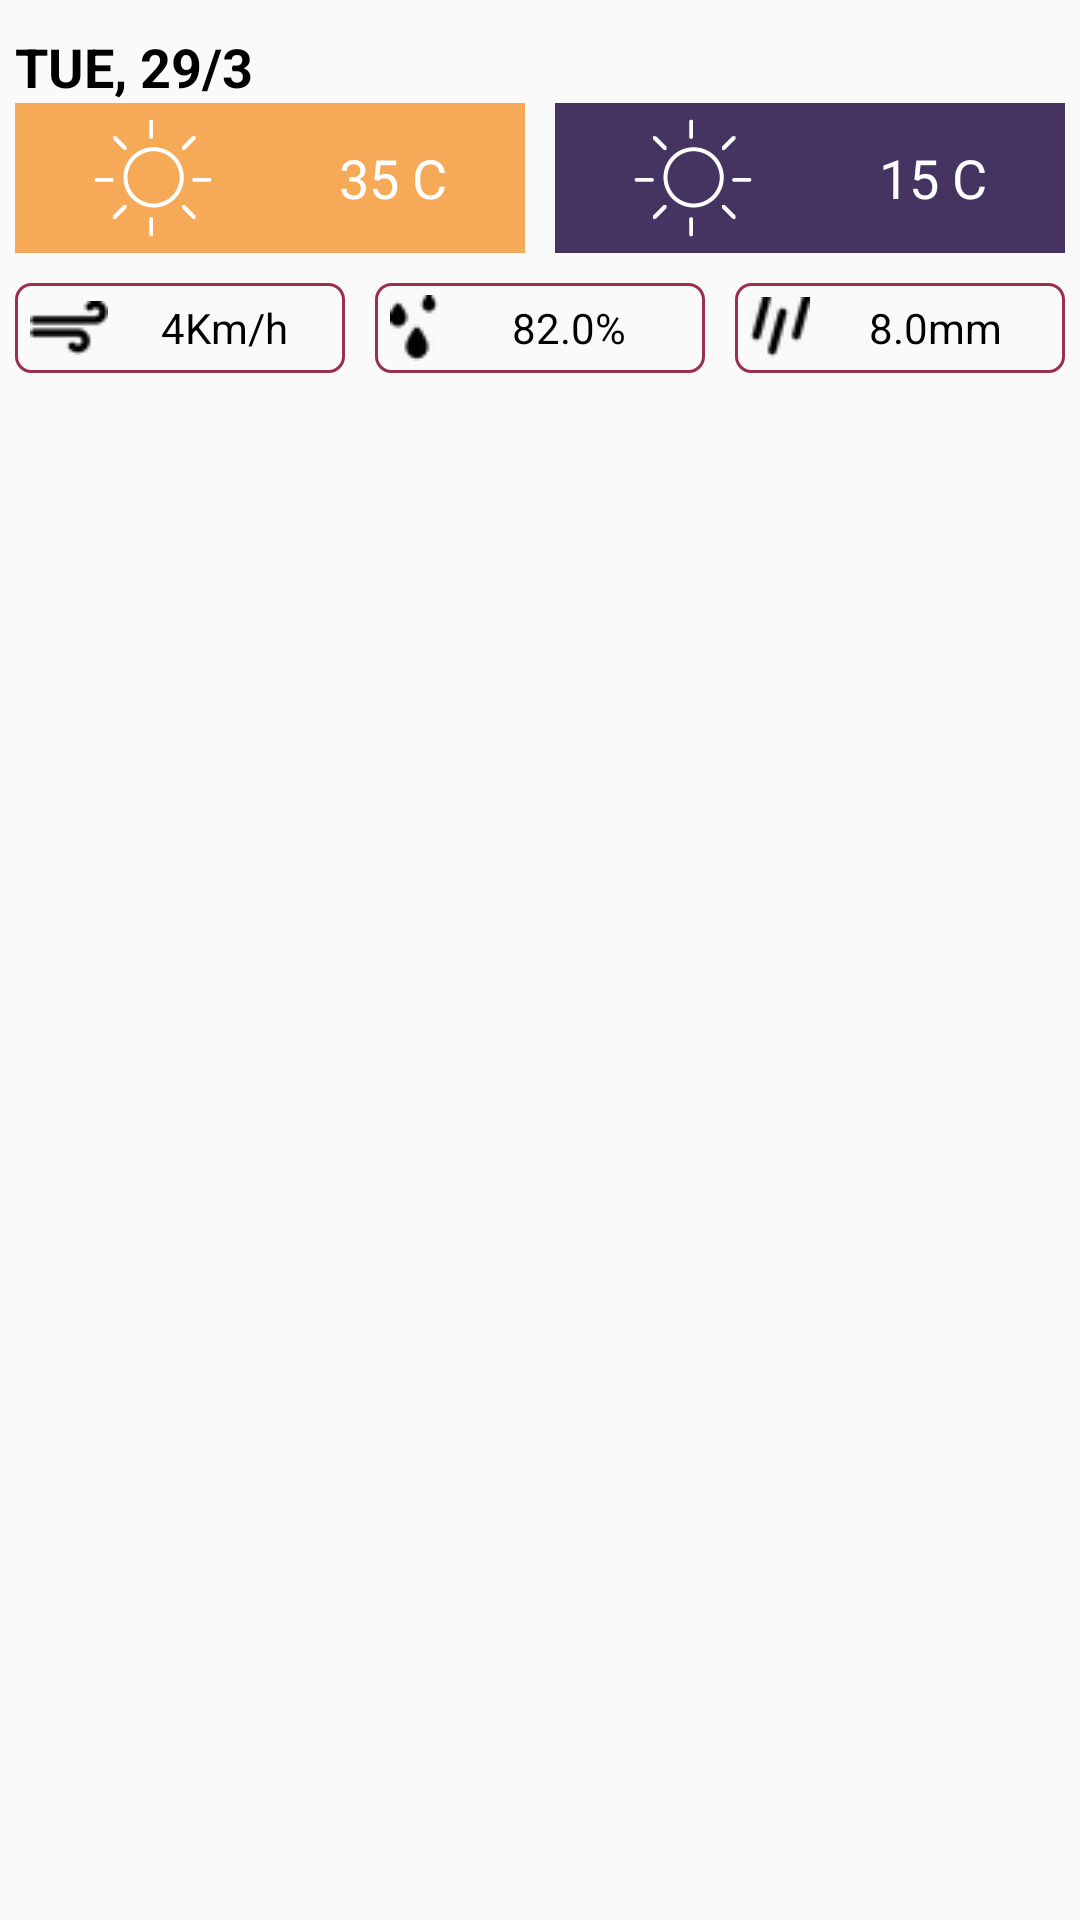

Named icons in this screenshot (1080×1920) and their bounding boxes, box(x1, y1, x2, y2):
sunny: box(94, 119, 212, 237), box(634, 119, 752, 237)
